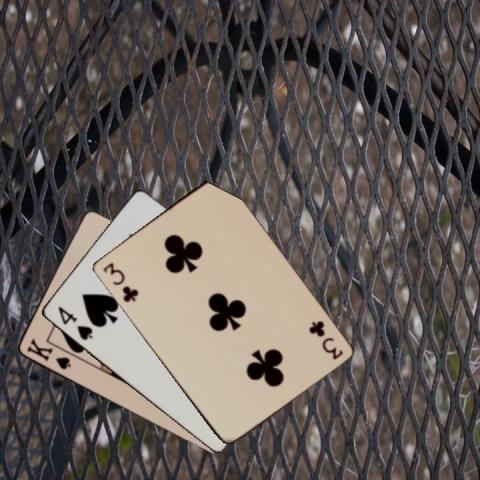3c: (99, 260, 140, 303), (305, 318, 344, 361)
4s: (54, 303, 94, 342)
Ks: (23, 335, 73, 371)
